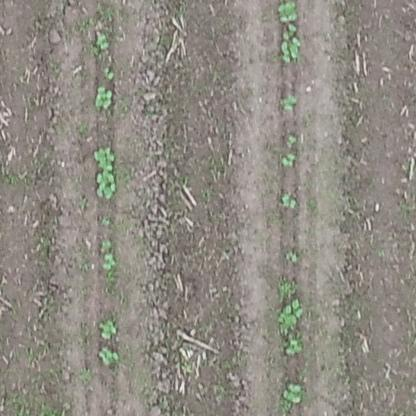vc: (93, 143, 117, 203), (277, 27, 303, 62), (98, 313, 118, 341), (97, 344, 121, 367), (93, 84, 115, 109), (277, 2, 300, 23), (279, 92, 300, 111), (281, 190, 300, 209), (95, 30, 111, 51), (283, 247, 300, 264), (100, 253, 116, 271), (280, 152, 295, 169), (284, 132, 301, 146), (103, 65, 116, 80), (101, 237, 114, 248)
